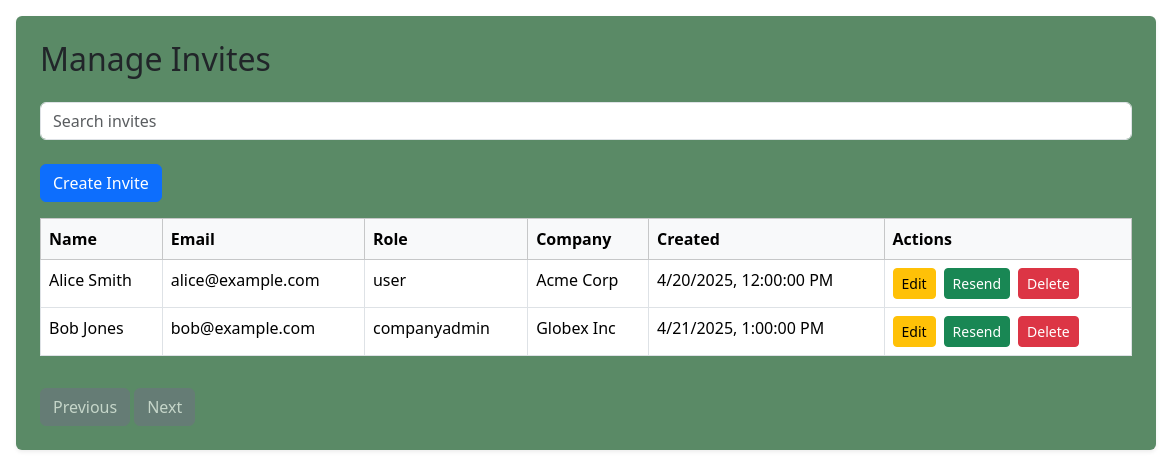
Test: InviteUser Page › filters invites by search term
Expected: the text "Alice Smith" is shown, [40,260,162,308]
Type "bob" into the field with placeholder "Search invites".
click(586, 121); type("bob")  # box [40,102,1132,140]
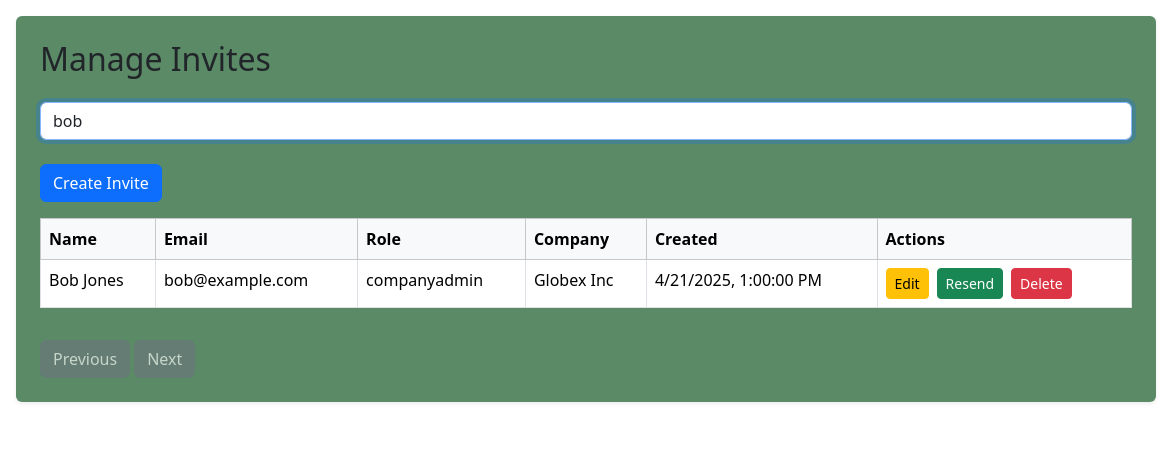
Expected: the text "Bob Jones" is shown, [40,260,155,308]
Expected: the text "Alice Smith" is gone
